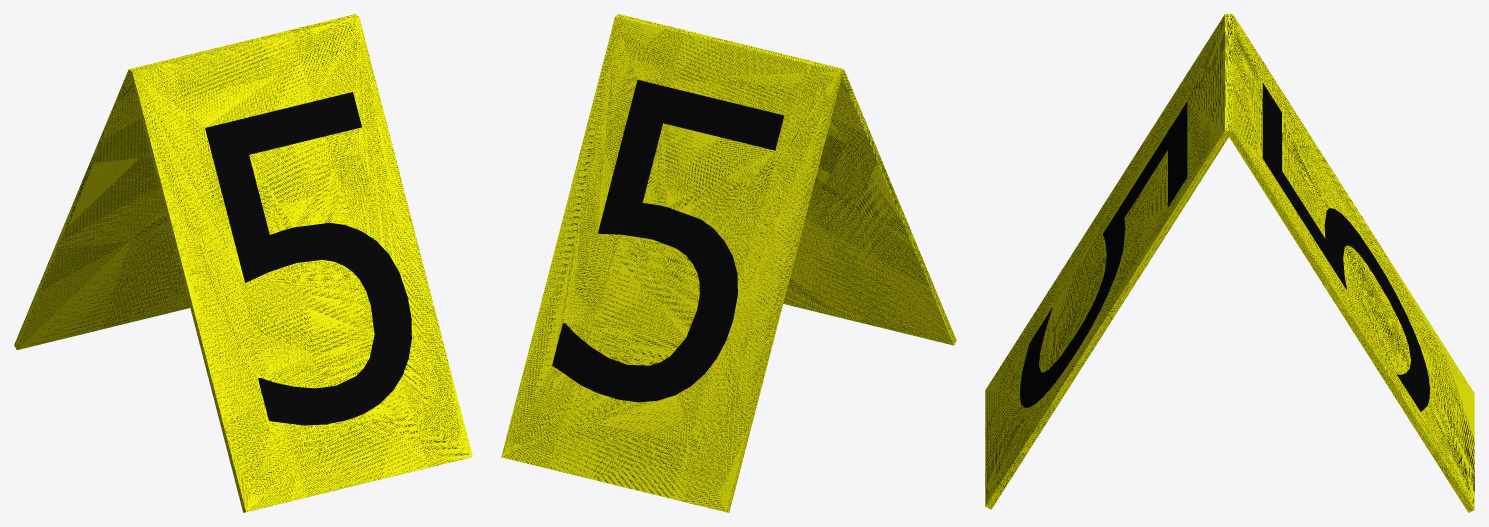
File: E_Five.dae
3 views of the same model, side by side, from view 1: azimuth 30°, elevation 25°; view 2: azimuth 150°, elevation 25°; view 3: azimuth 270°, elevation 25° (orthographic). The views are drawn at different scales.
Visible parts, largest first — view 1: skp24E6 (×2); view 2: skp24E6 (×2); view 3: skp24E6 (×3).
Boxes of the visible parts, left/top/right/bottom form: skp24E6 (×2): left=14, top=14, right=472, bottom=512; skp24E6 (×2): left=501, top=14, right=956, bottom=512; skp24E6 (×3): left=985, top=14, right=1474, bottom=512.
Bounding box in the file's own units: 4 × 7.09 × 6.11.
